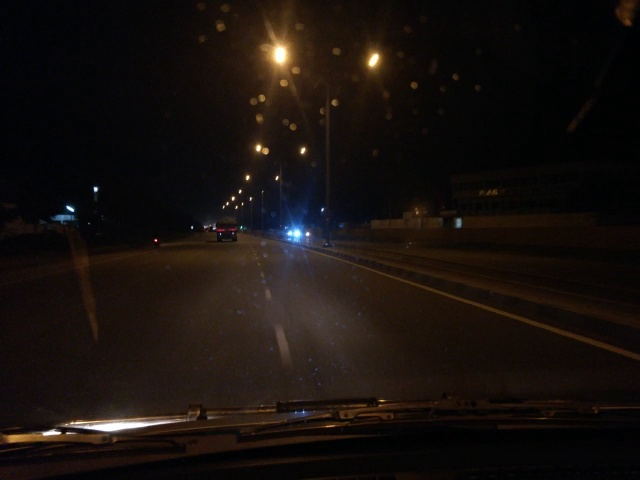car: (284, 228, 311, 240)
motorbike: (150, 232, 165, 248)
truck: (216, 217, 240, 246)
